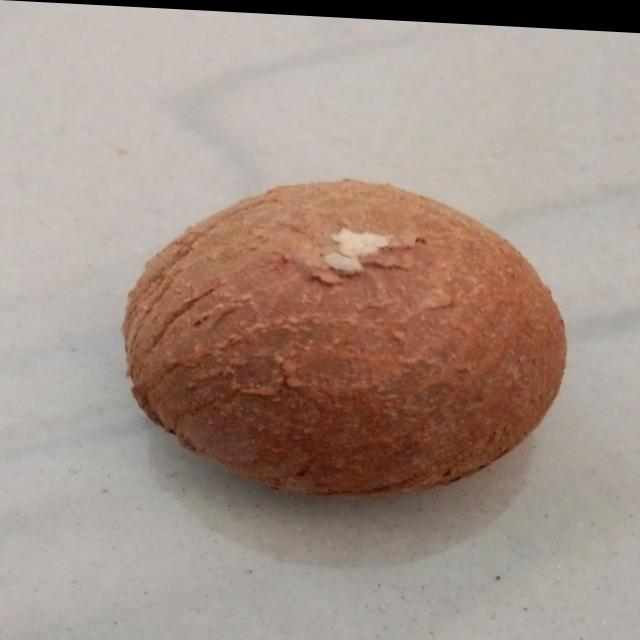good: (120, 157, 580, 520)
